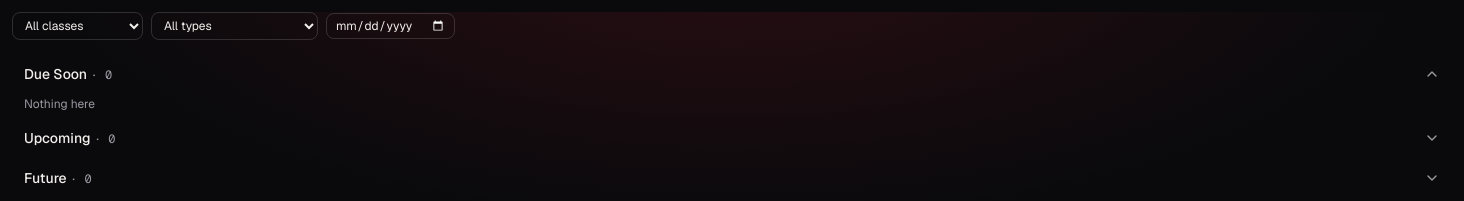
it: TaskListModule › lets Due Soon be collapsed and re-expanded like any other group
What coordinates should you click on to do the following:
click the button "Due Soon · 0"
I would click on:
 (56, 74)
Its box is [12, 56, 1452, 92].
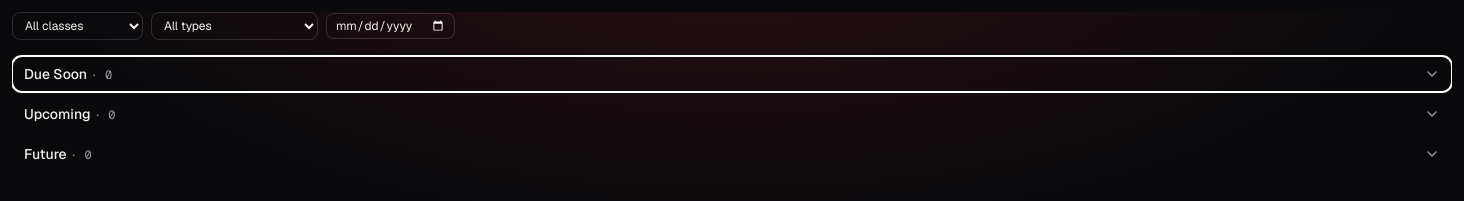
Check: the button "Due Soon · 0" is collapsed
What coordinates should you click on to do the following:
click the button "Due Soon · 0"
I would click on:
 (56, 74)
Its box is [12, 56, 1452, 92].
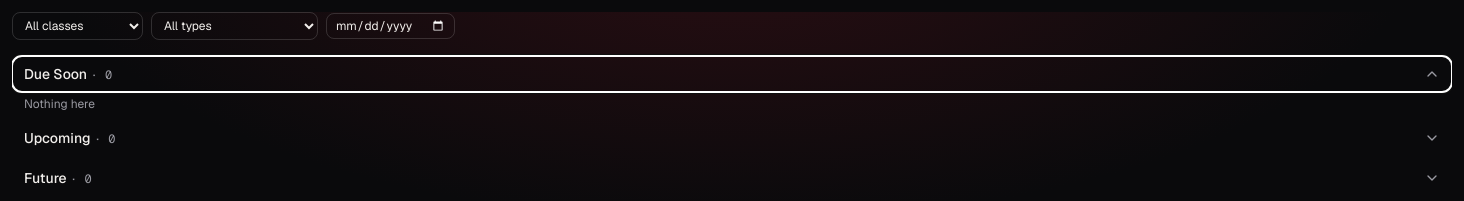
Check: the button "Due Soon · 0" is expanded, box [12, 56, 1452, 92]
